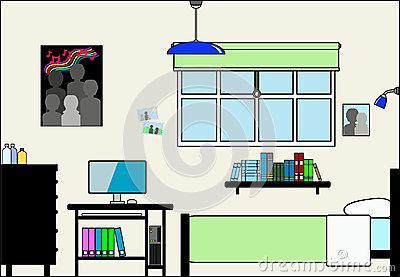bottle: (17, 144, 28, 165)
person: (1, 141, 12, 164)
tvmonitor: (84, 157, 156, 206)
